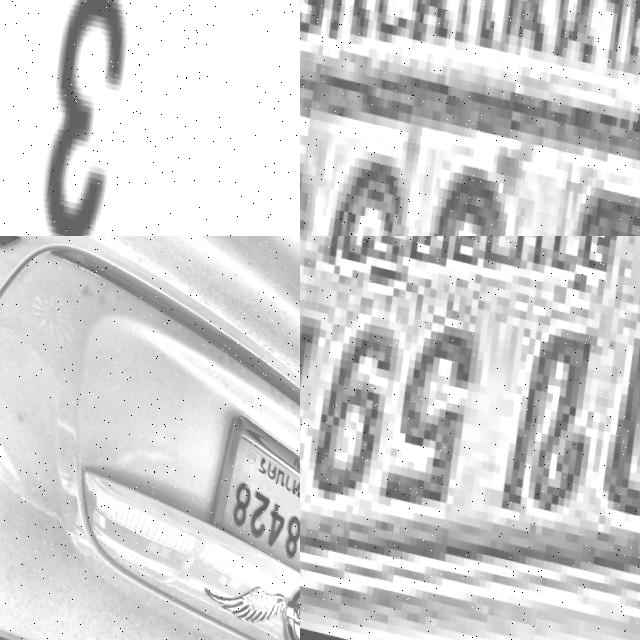license-plate: (300, 236, 640, 572), (300, 0, 640, 236), (0, 0, 300, 236), (191, 407, 300, 614)
